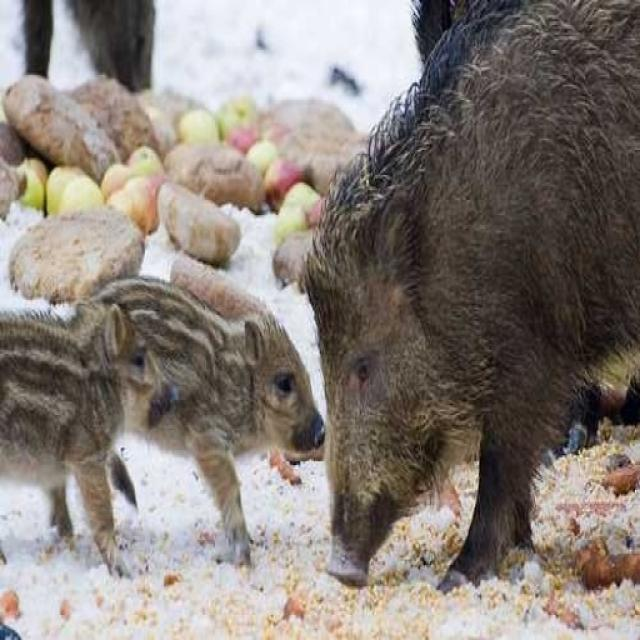pig: (313, 0, 640, 555), (32, 203, 309, 525)
